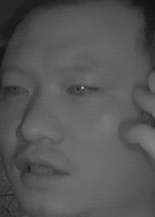eye: (65, 78, 98, 100), (2, 81, 32, 101)
mouth: (7, 150, 72, 189)
